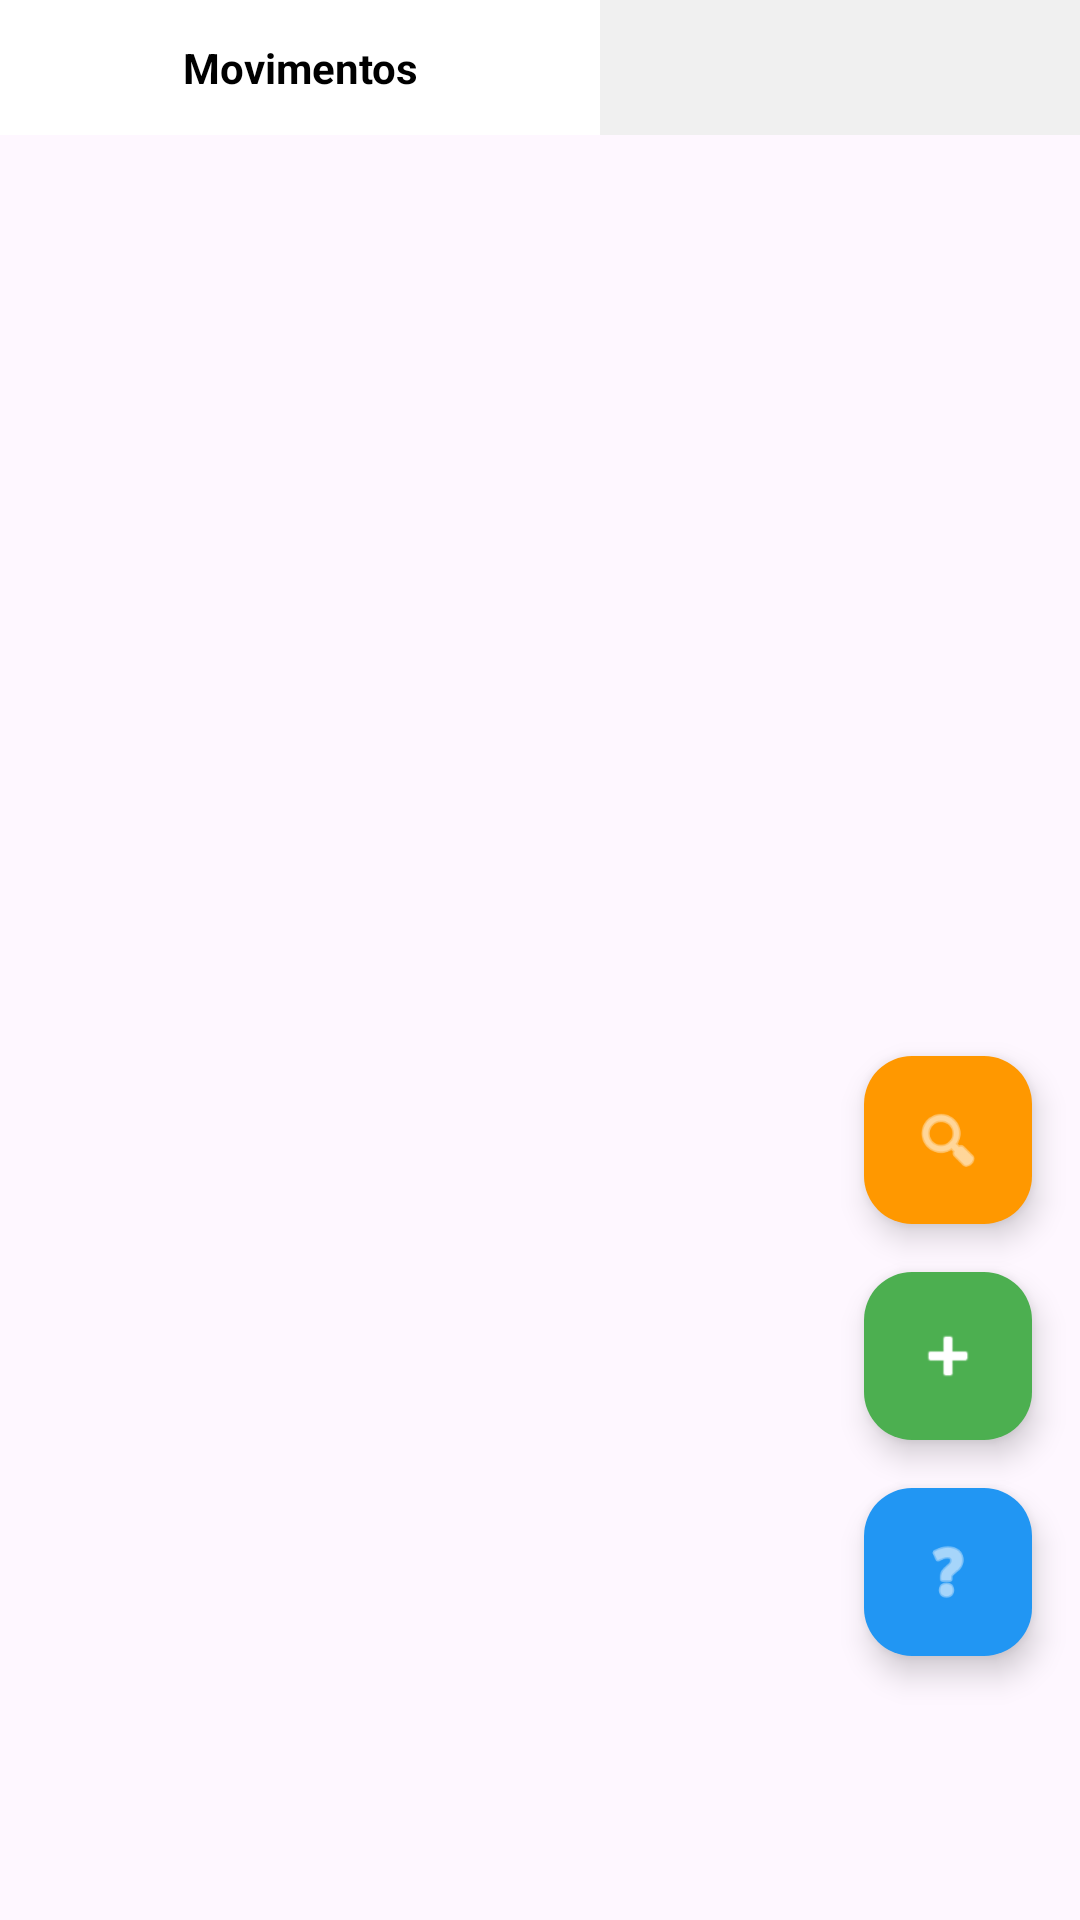

Screen size 1080x1920. Icon name, then its box in pixels as (x1, y1, x2, y2):
add: (864, 1272, 1032, 1440)
help: (864, 1488, 1032, 1656)
search: (864, 1056, 1032, 1224)
